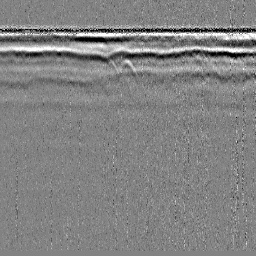cavity: (114, 57, 140, 83)
